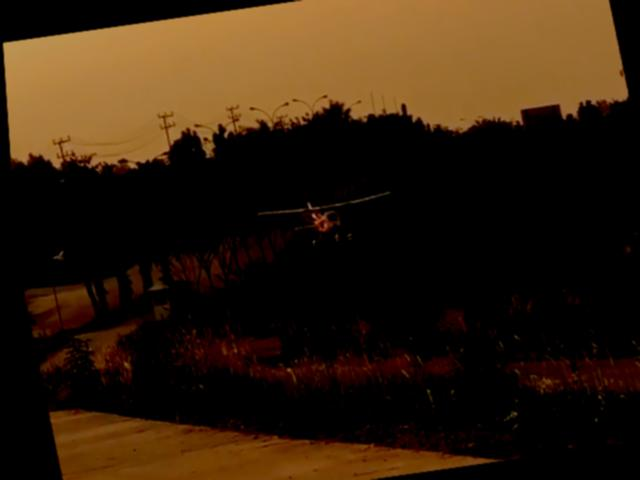plane: (250, 188, 397, 253)
